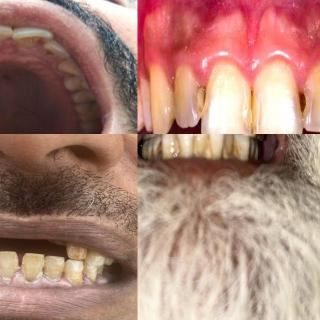Gum Swelling: (172, 41, 315, 92), (0, 272, 104, 286)
calculus: (175, 147, 238, 159), (21, 252, 44, 283), (64, 259, 86, 287), (42, 256, 62, 284), (0, 254, 18, 284), (82, 263, 98, 283)
cavities: (190, 82, 220, 122), (238, 92, 264, 132), (290, 85, 316, 121), (77, 96, 101, 108)
maligned: (0, 21, 14, 54)
stains: (17, 32, 49, 48), (59, 73, 82, 89), (42, 45, 60, 63)
